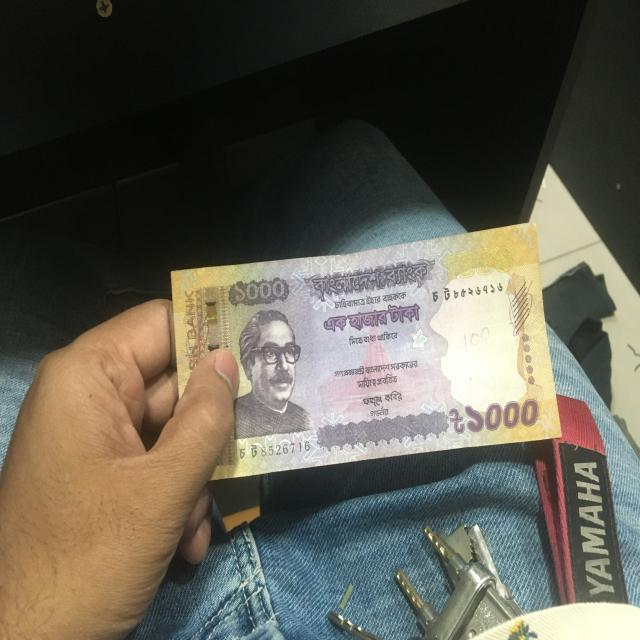Taka: (171, 226, 554, 482)
